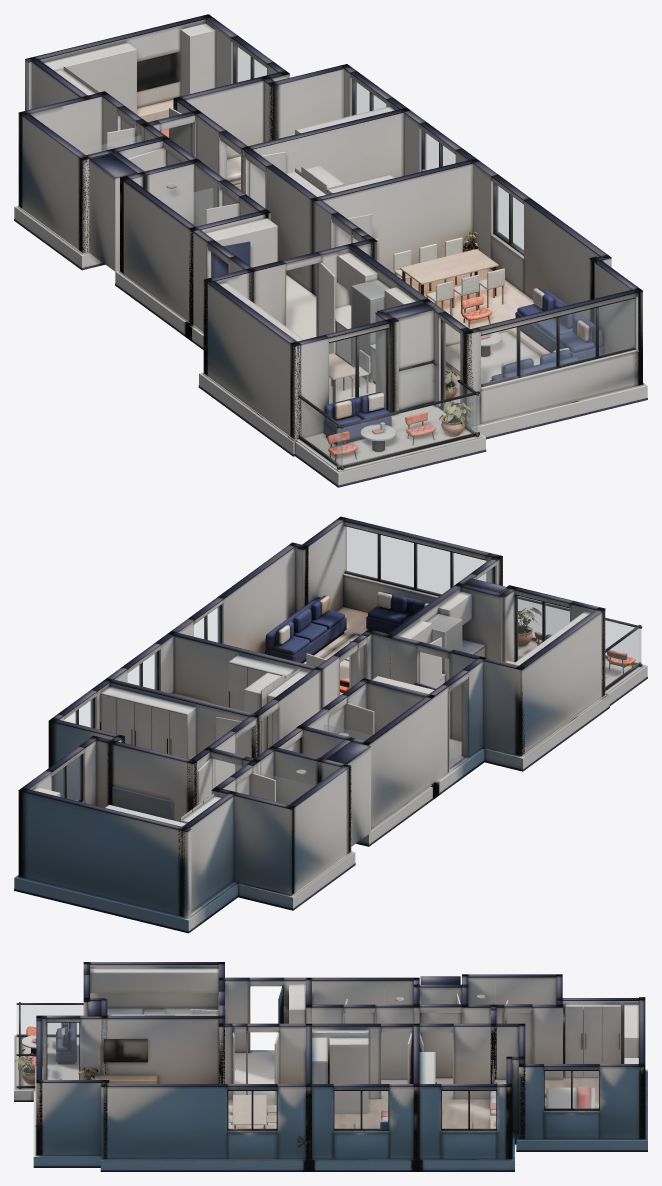
The picture shows the model from 3 angles, top to bottom: view 1: azimuth 30°, elevation 25°; view 2: azimuth 150°, elevation 25°; view 3: azimuth 270°, elevation 25°; orthographic projection. The views are drawn at different scales.
Visible parts, largest first — view 1: plan, glass4_m, railg2_m, glass6_m, railg3_m, railg1_m, glass3_m, glass5_m, sg.001_m, glass2_m, glass0_m; view 2: plan, glass4_m, glass6_m, railg2_m, railg3_m, glass0_m, sg_m, glass2_m; view 3: plan, glass0_m, glass1_m, glass2_m, glass3_m, glass5_m, railg3_m, railg5_m.
Part boxes in pixels (x1,y1,x2,y2): plan: (14,14,647,487); glass4_m: (481,299,634,384); railg2_m: (337,394,479,466); glass6_m: (329,329,386,408); railg3_m: (300,399,342,466); railg1_m: (399,363,433,409); glass3_m: (495,184,523,252); glass5_m: (443,321,459,404); sg.001_m: (161,188,212,226); glass2_m: (424,132,455,170); glass0_m: (235,45,266,82); plan: (14,516,647,933); glass4_m: (345,526,485,594); glass6_m: (517,596,569,660); railg2_m: (518,599,641,663); railg3_m: (605,629,639,686); glass0_m: (52,756,80,800); sg_m: (258,772,313,804); glass2_m: (128,652,156,689); plan: (14,962,647,1171); glass0_m: (545,1071,598,1108); glass1_m: (442,1091,495,1128); glass2_m: (334,1091,387,1128); glass3_m: (228,1091,276,1128); glass5_m: (47,1023,78,1079); railg3_m: (17,1005,83,1034); railg5_m: (17,1056,35,1085).
Bounding box in the file's own units: 8.48 × 2.62 × 17.88.
2 materials, 1 textured.
